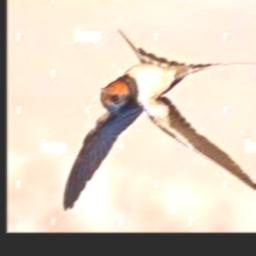Swallow: (63, 29, 256, 211)
